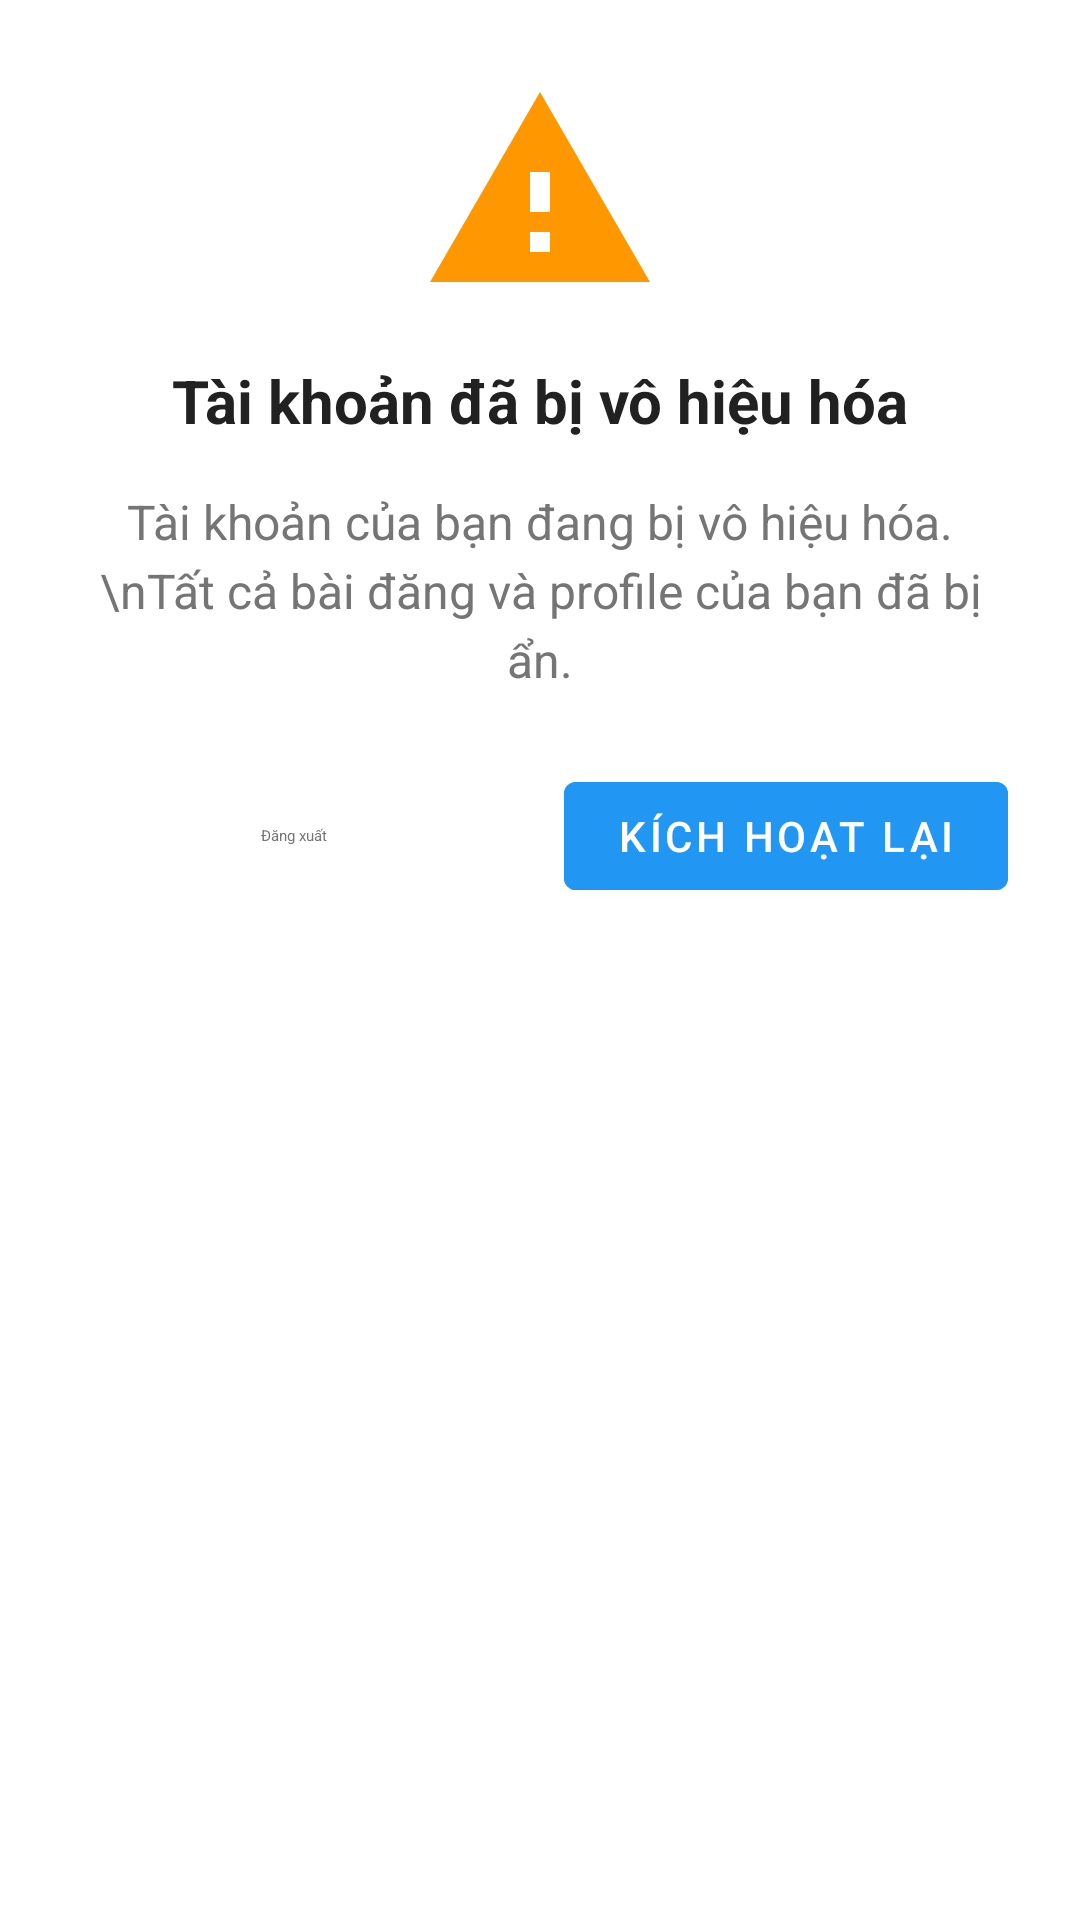

Icon click points for this 1080 × 1920 phone screenshot, format [x,y]:
warning: [540,187]
